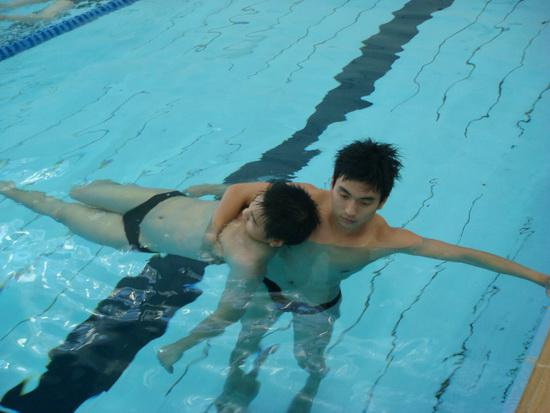human: (227, 138, 550, 376), (13, 166, 314, 370)
